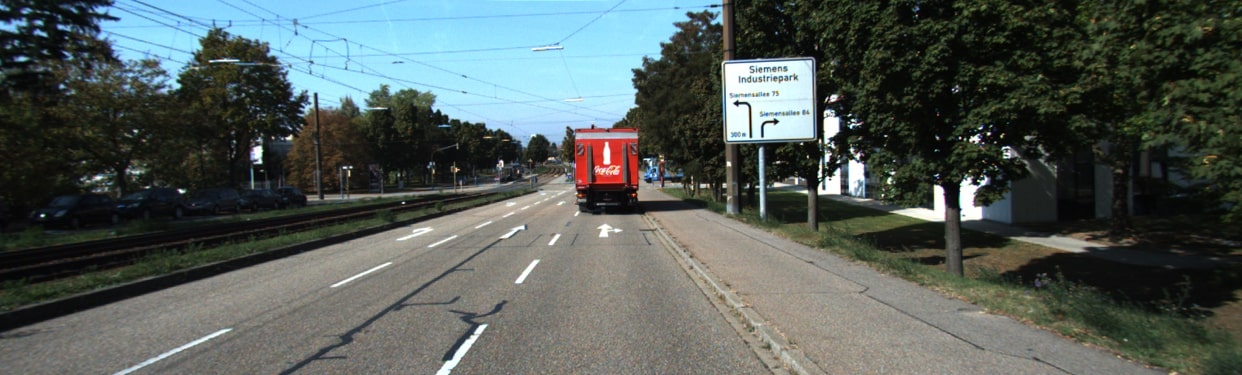car: (568, 124, 645, 214)
